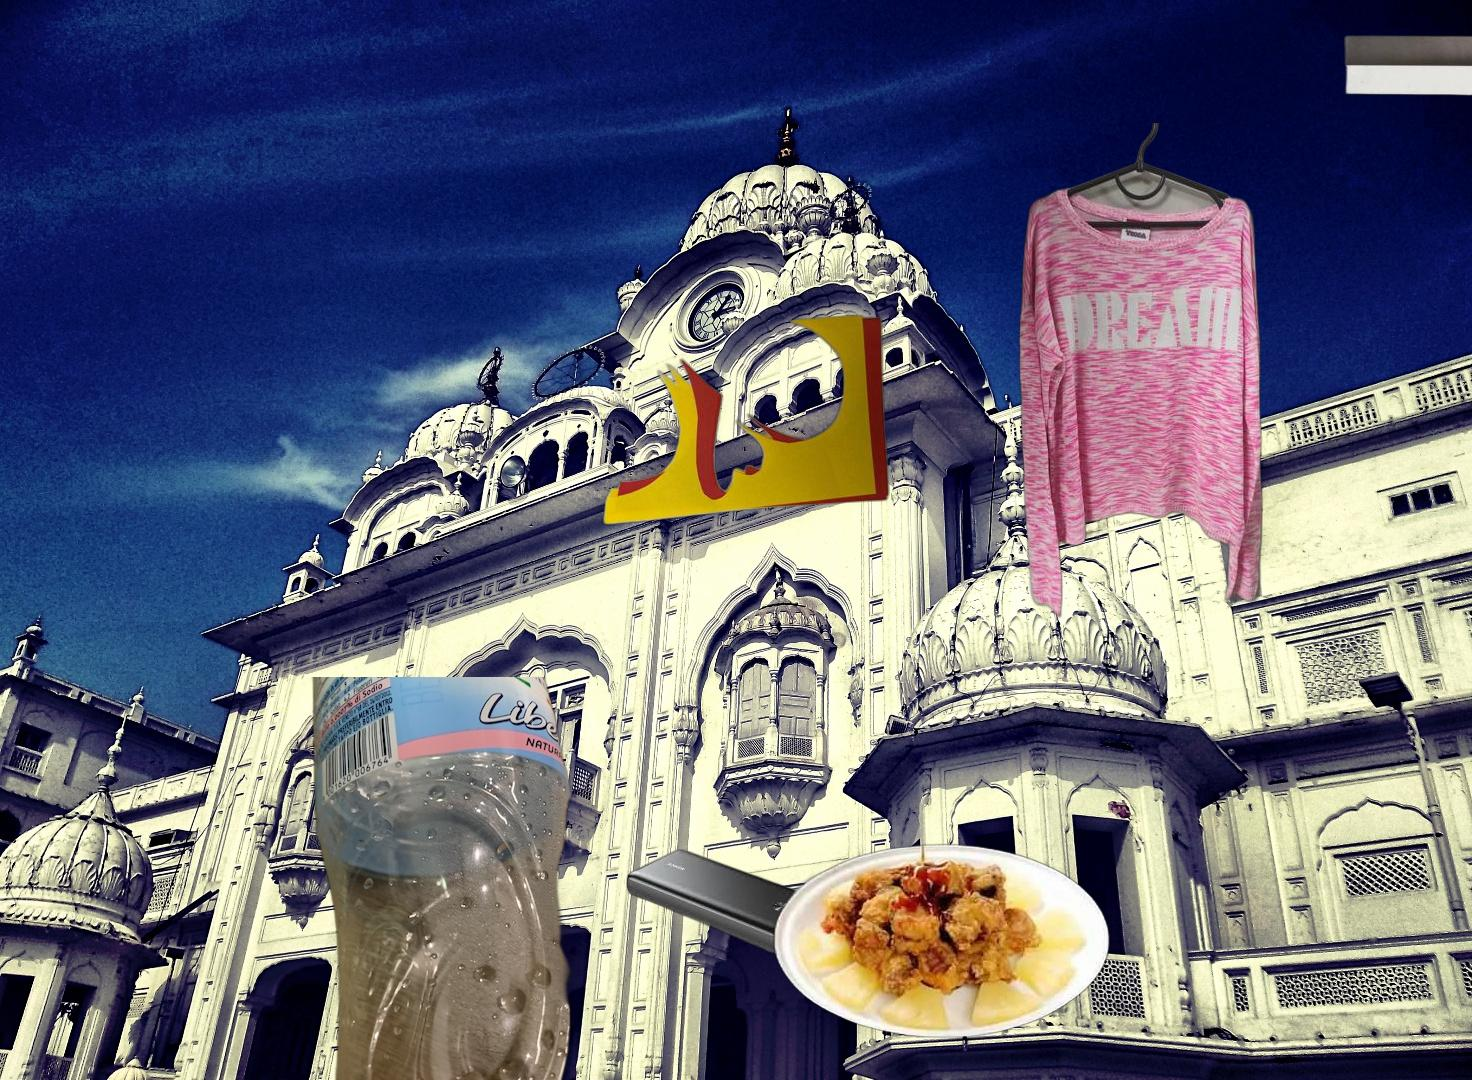battery: (622, 847, 835, 957)
biological: (768, 722, 1215, 1041)
clothes: (1016, 123, 1266, 622)
glass: (515, 815, 861, 1080)
paper: (598, 314, 893, 528), (1336, 31, 1472, 278)
plastic-bottles: (310, 677, 581, 1080)
